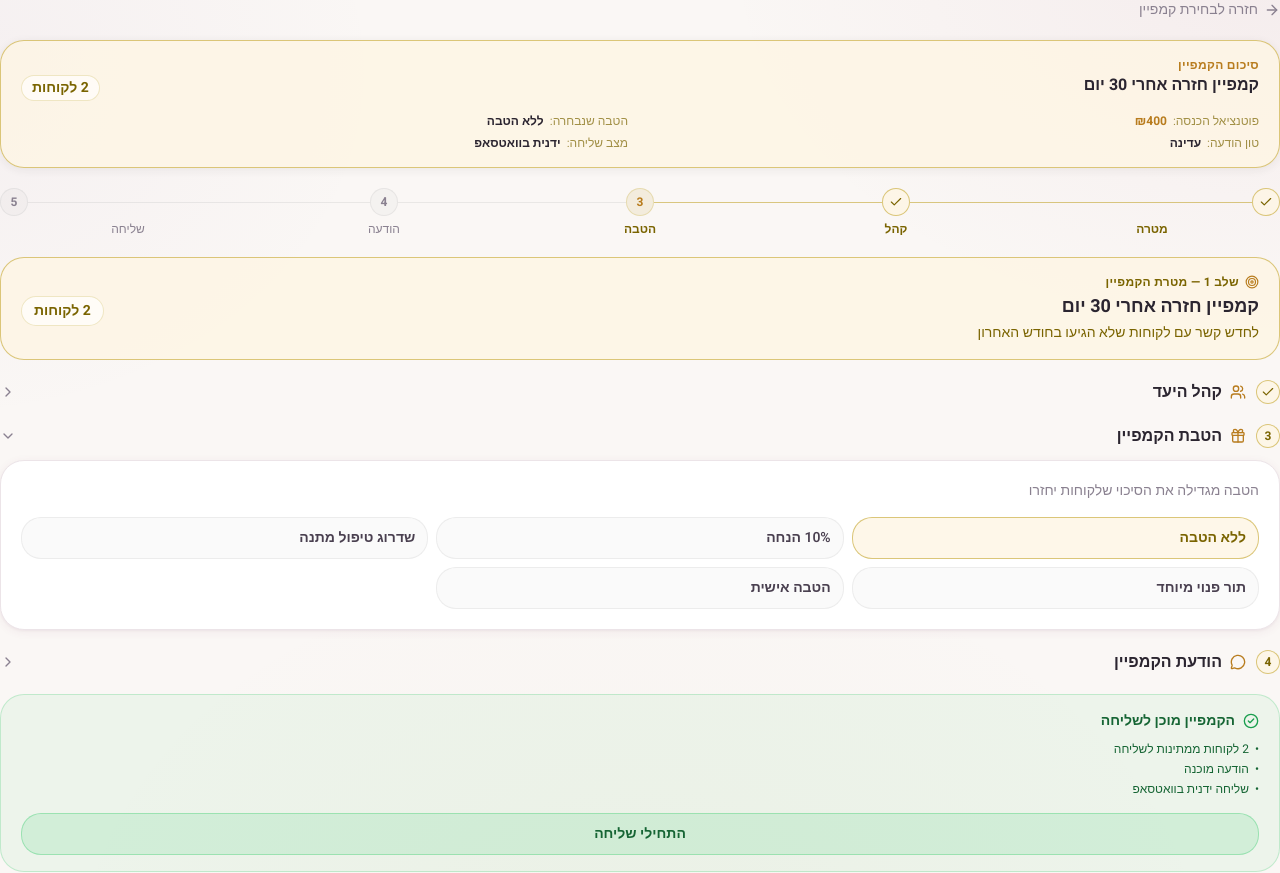
Scenario: CampaignView — defaultCampaignType deep link › renders audience stats and the revenue-impact projection
The width and height of the screenshot is (1280, 873).
# Audience section starts collapsed — expand it.
Step 1. Click the button "קהל היעד" → (1187, 392), box [0,380,1279,404]
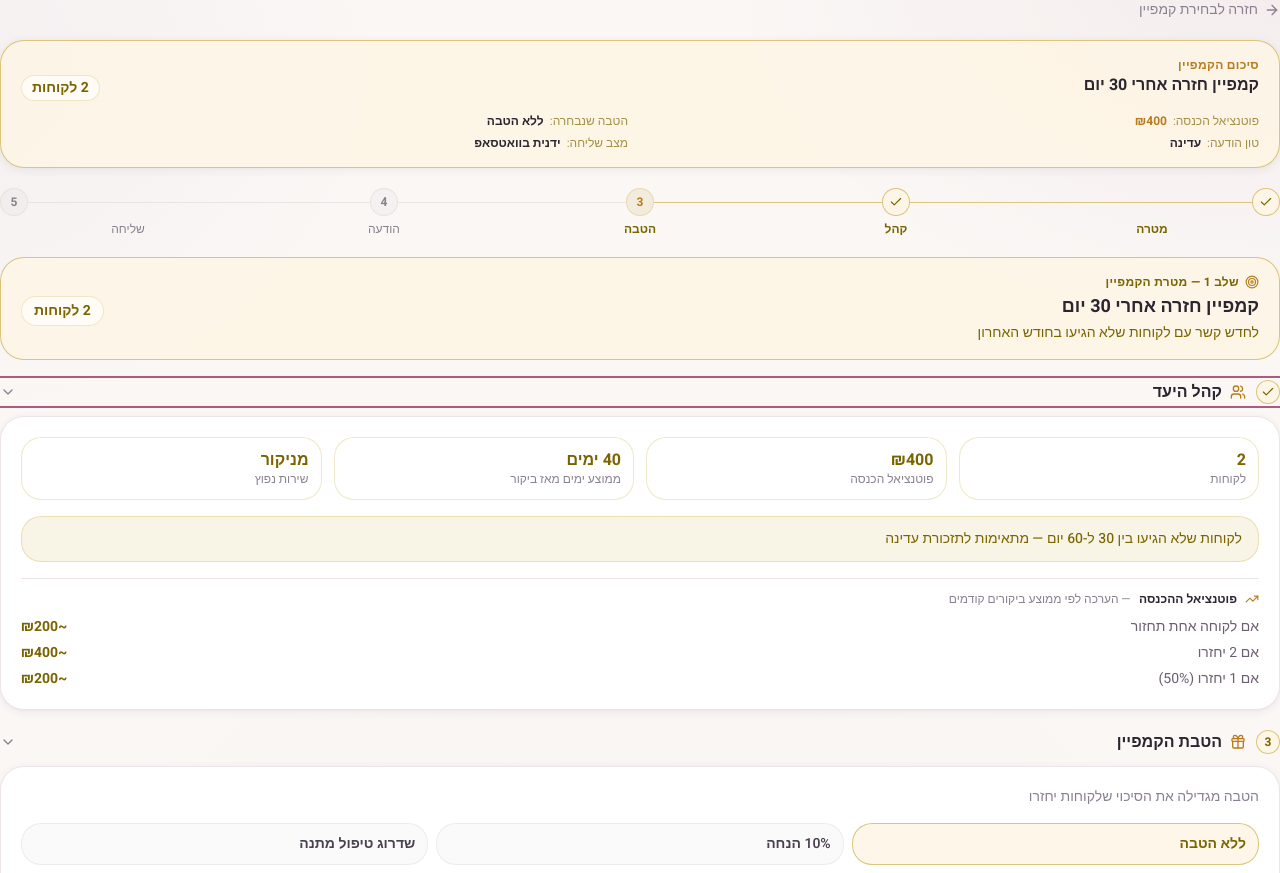
Check: the text "פוטנציאל ההכנסה" is shown, box [1139,590,1237,606]
Check: the text "אם לקוחה אחת תחזור" is shown, box [1131,616,1259,636]
